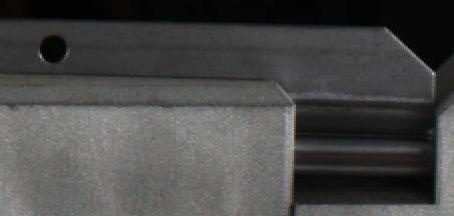cut: (308, 21, 443, 205)
holes: (37, 32, 69, 65)
